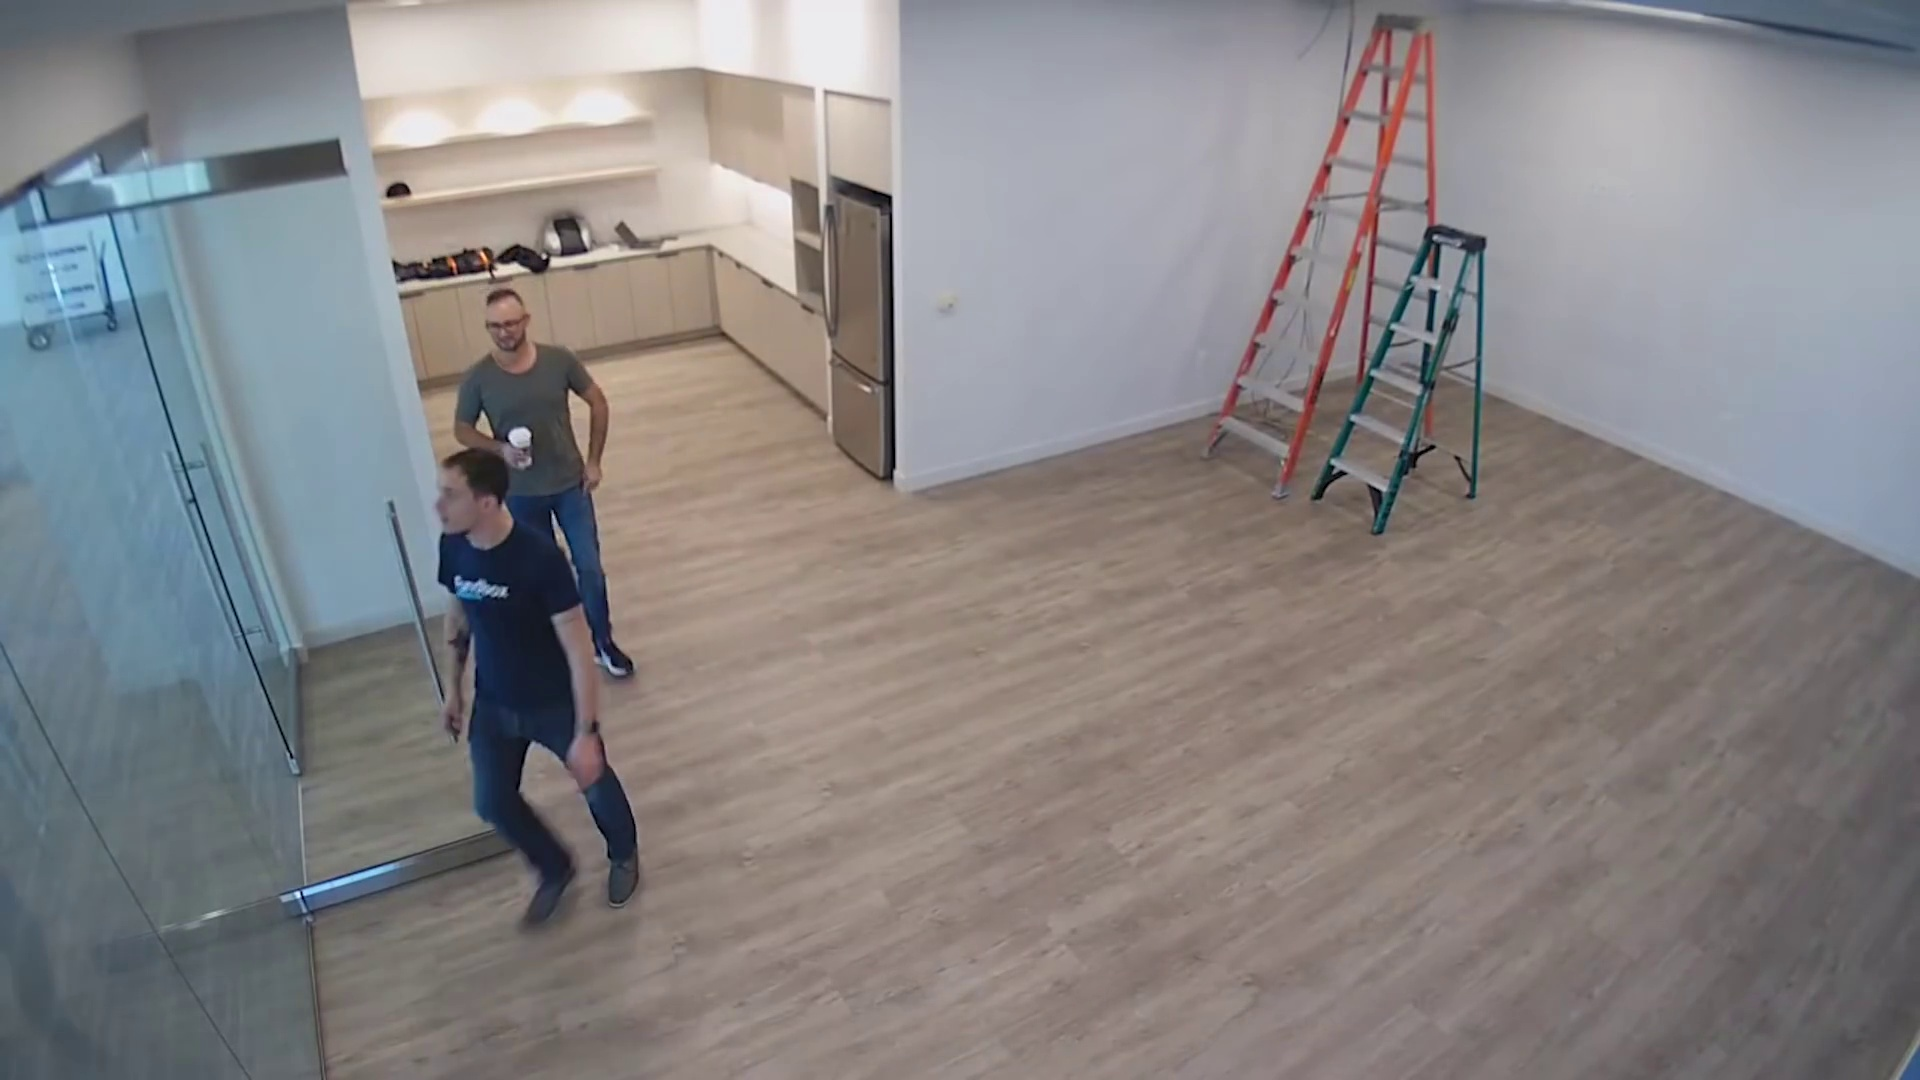face: (434, 475, 480, 535), (487, 304, 521, 349)
